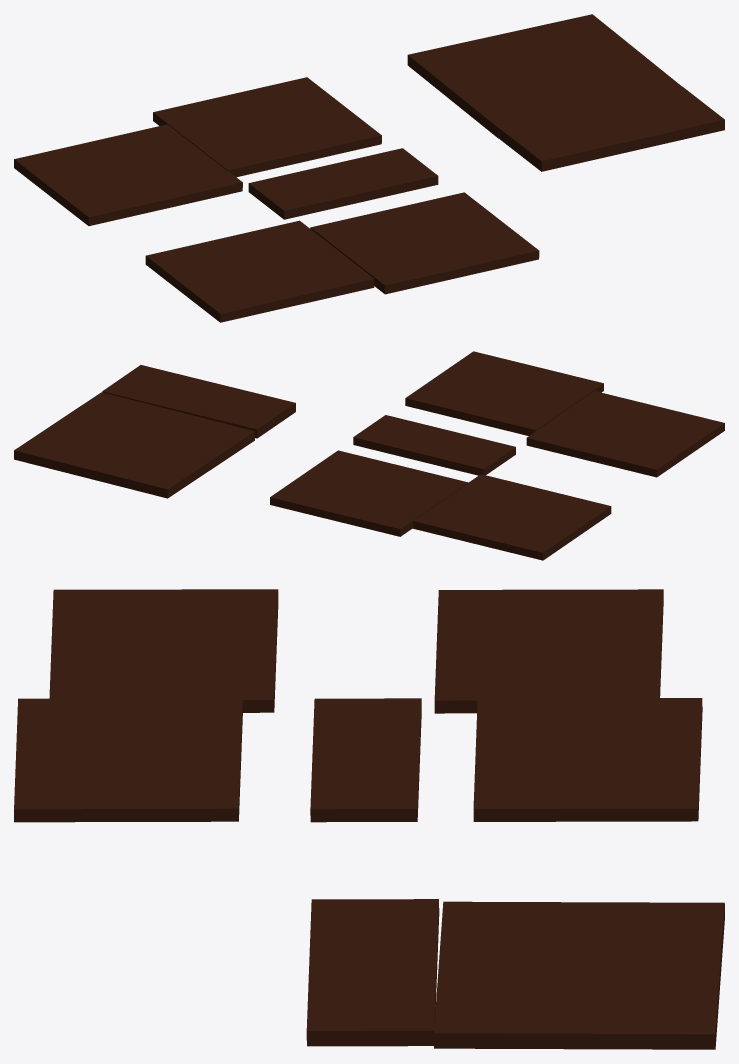
File: SnowGround.fbx
3 views of the same model, one above another, from view 1: azimuth 30°, elevation 25°; view 2: azimuth 150°, elevation 25°; view 3: azimuth 270°, elevation 25° (orthographic). The views are drawn at different scales.
Parts seen in each view (by area): view 1: Snow, pCube204__11_, pCube204__10_, pCube204__8_, pCube204__9_, pCube204__5_, pCube204__7_; view 2: Snow, pCube204__11_, pCube204__10_, pCube204__9_, pCube204__8_, pCube204__5_, pCube204__7_; view 3: Snow, pCube204__8_, pCube204__9_, pCube204__10_, pCube204__11_, pCube204__5_, pCube204__7_.
Boxes of the visible parts, left/top/right/bottom form: Snow: left=407, top=14, right=681, bottom=138; pCube204__11_: left=145, top=220, right=374, bottom=322; pCube204__10_: left=14, top=124, right=242, bottom=225; pCube204__8_: left=310, top=192, right=539, bottom=294; pCube204__9_: left=153, top=77, right=381, bottom=177; pCube204__5_: left=499, top=86, right=724, bottom=171; pCube204__7_: left=248, top=148, right=438, bottom=219; Snow: left=14, top=392, right=254, bottom=498; pCube204__11_: left=526, top=391, right=724, bottom=477; pCube204__10_: left=413, top=474, right=611, bottom=560; pCube204__9_: left=270, top=450, right=468, bottom=536; pCube204__8_: left=405, top=351, right=603, bottom=435; pCube204__5_: left=102, top=365, right=295, bottom=438; pCube204__7_: left=353, top=415, right=515, bottom=475; Snow: left=434, top=901, right=724, bottom=1049; pCube204__8_: left=14, top=698, right=242, bottom=822; pCube204__9_: left=473, top=698, right=702, bottom=821; pCube204__10_: left=434, top=589, right=663, bottom=713; pCube204__11_: left=49, top=589, right=278, bottom=712; pCube204__5_: left=306, top=899, right=439, bottom=1046; pCube204__7_: left=310, top=698, right=421, bottom=822.
Size of the model in its own units: 11678 by 484 by 8220.
